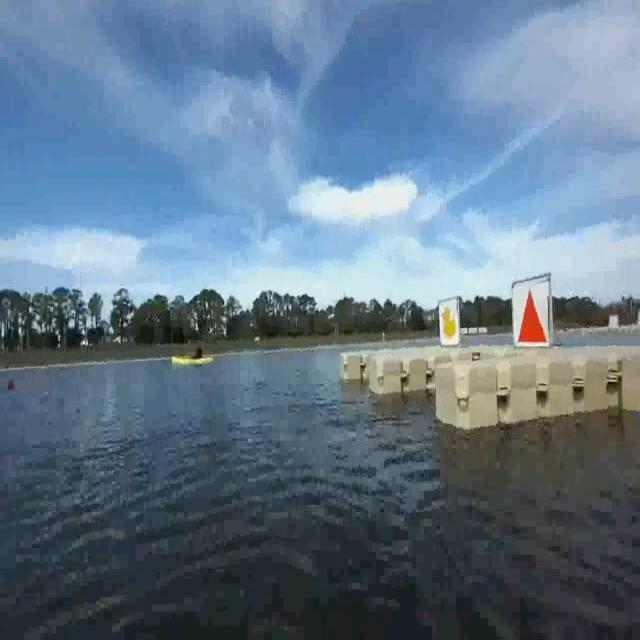red-dot: (515, 272, 552, 351)
yellow-duck: (437, 297, 459, 347)
